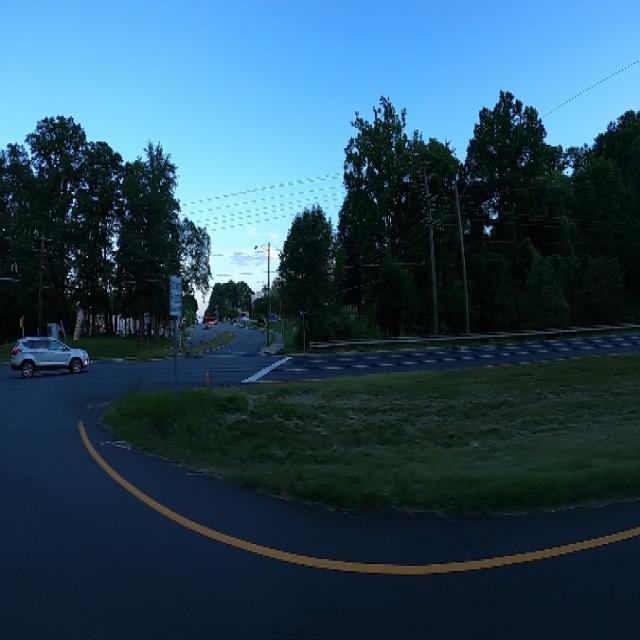cars: (10, 326, 96, 386)
